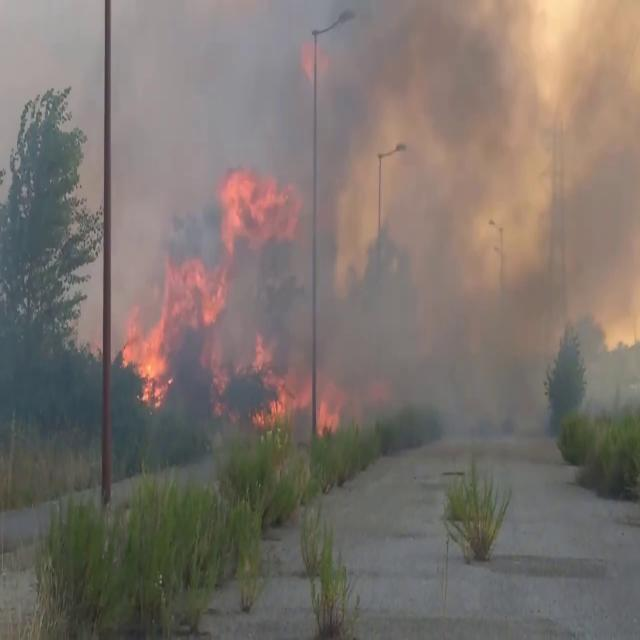Fire: (138, 254, 234, 368), (247, 320, 331, 433), (117, 270, 175, 396), (223, 146, 294, 246)
Smoke: (358, 40, 628, 418), (130, 27, 208, 216), (199, 21, 312, 125)
